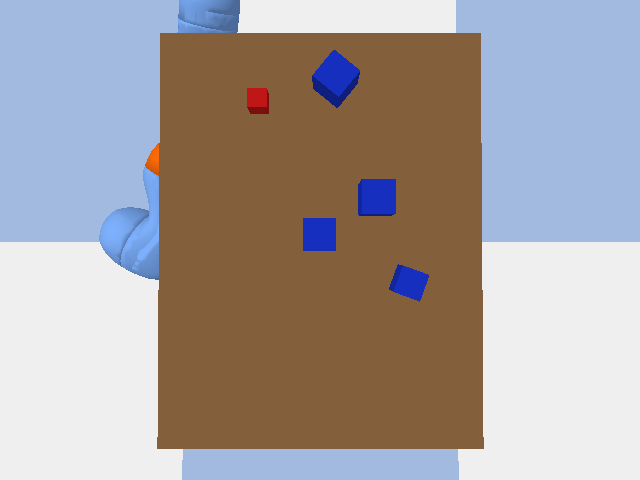blue_obj: (312, 50, 359, 107), (389, 264, 428, 301), (358, 179, 395, 215), (303, 218, 335, 250)
red_obj: (247, 88, 268, 113)
